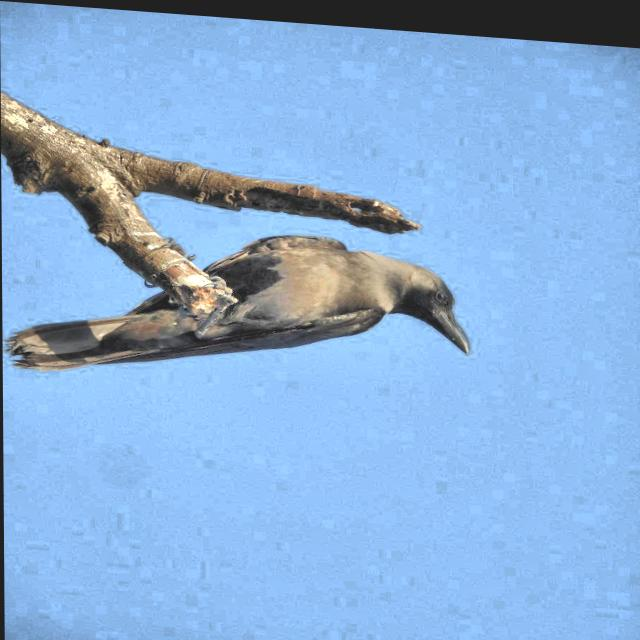crow: (1, 207, 479, 414)
